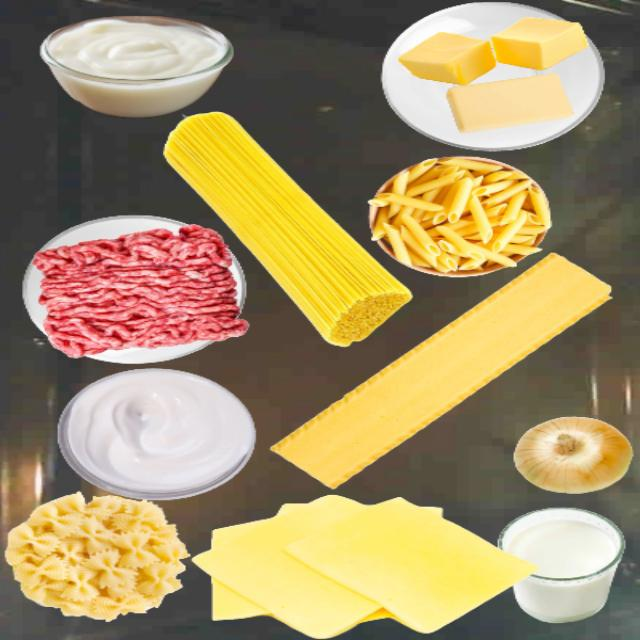Milk: (496, 504, 626, 625)
